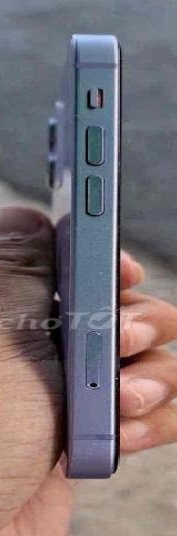scratch: (74, 229, 125, 316)
